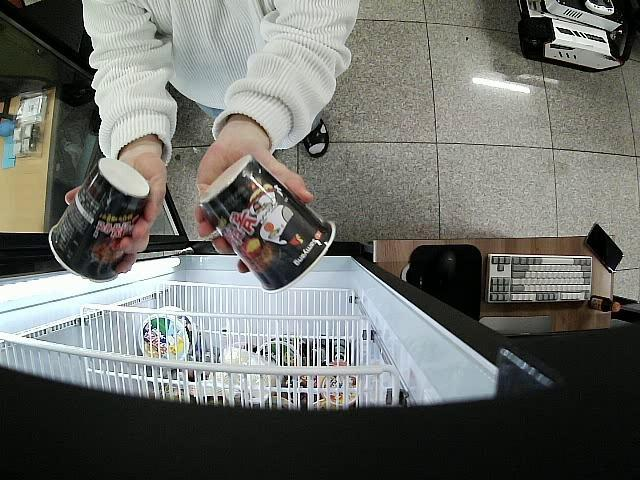08_buldak_S: (196, 155, 335, 291), (47, 158, 148, 284)
